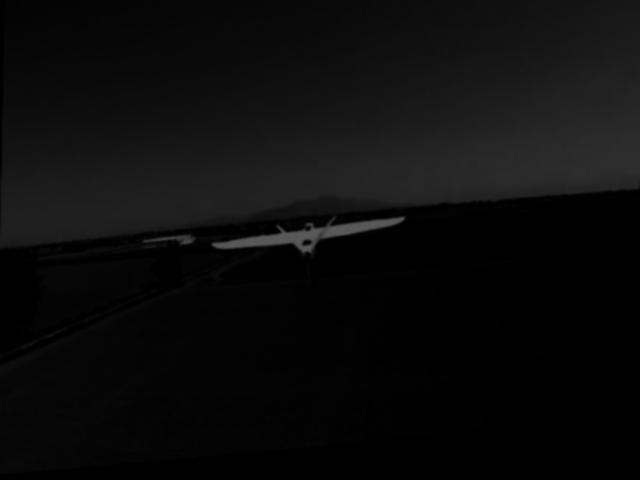hedef: (210, 213, 408, 296)
